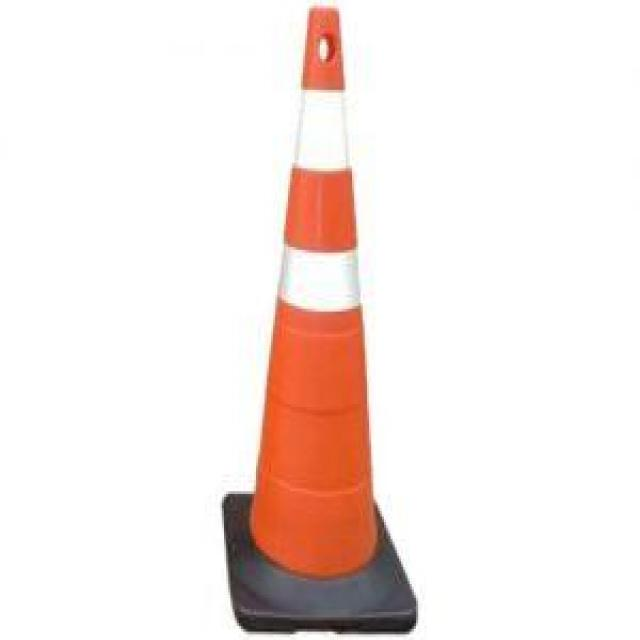cone: (243, 3, 384, 586)
